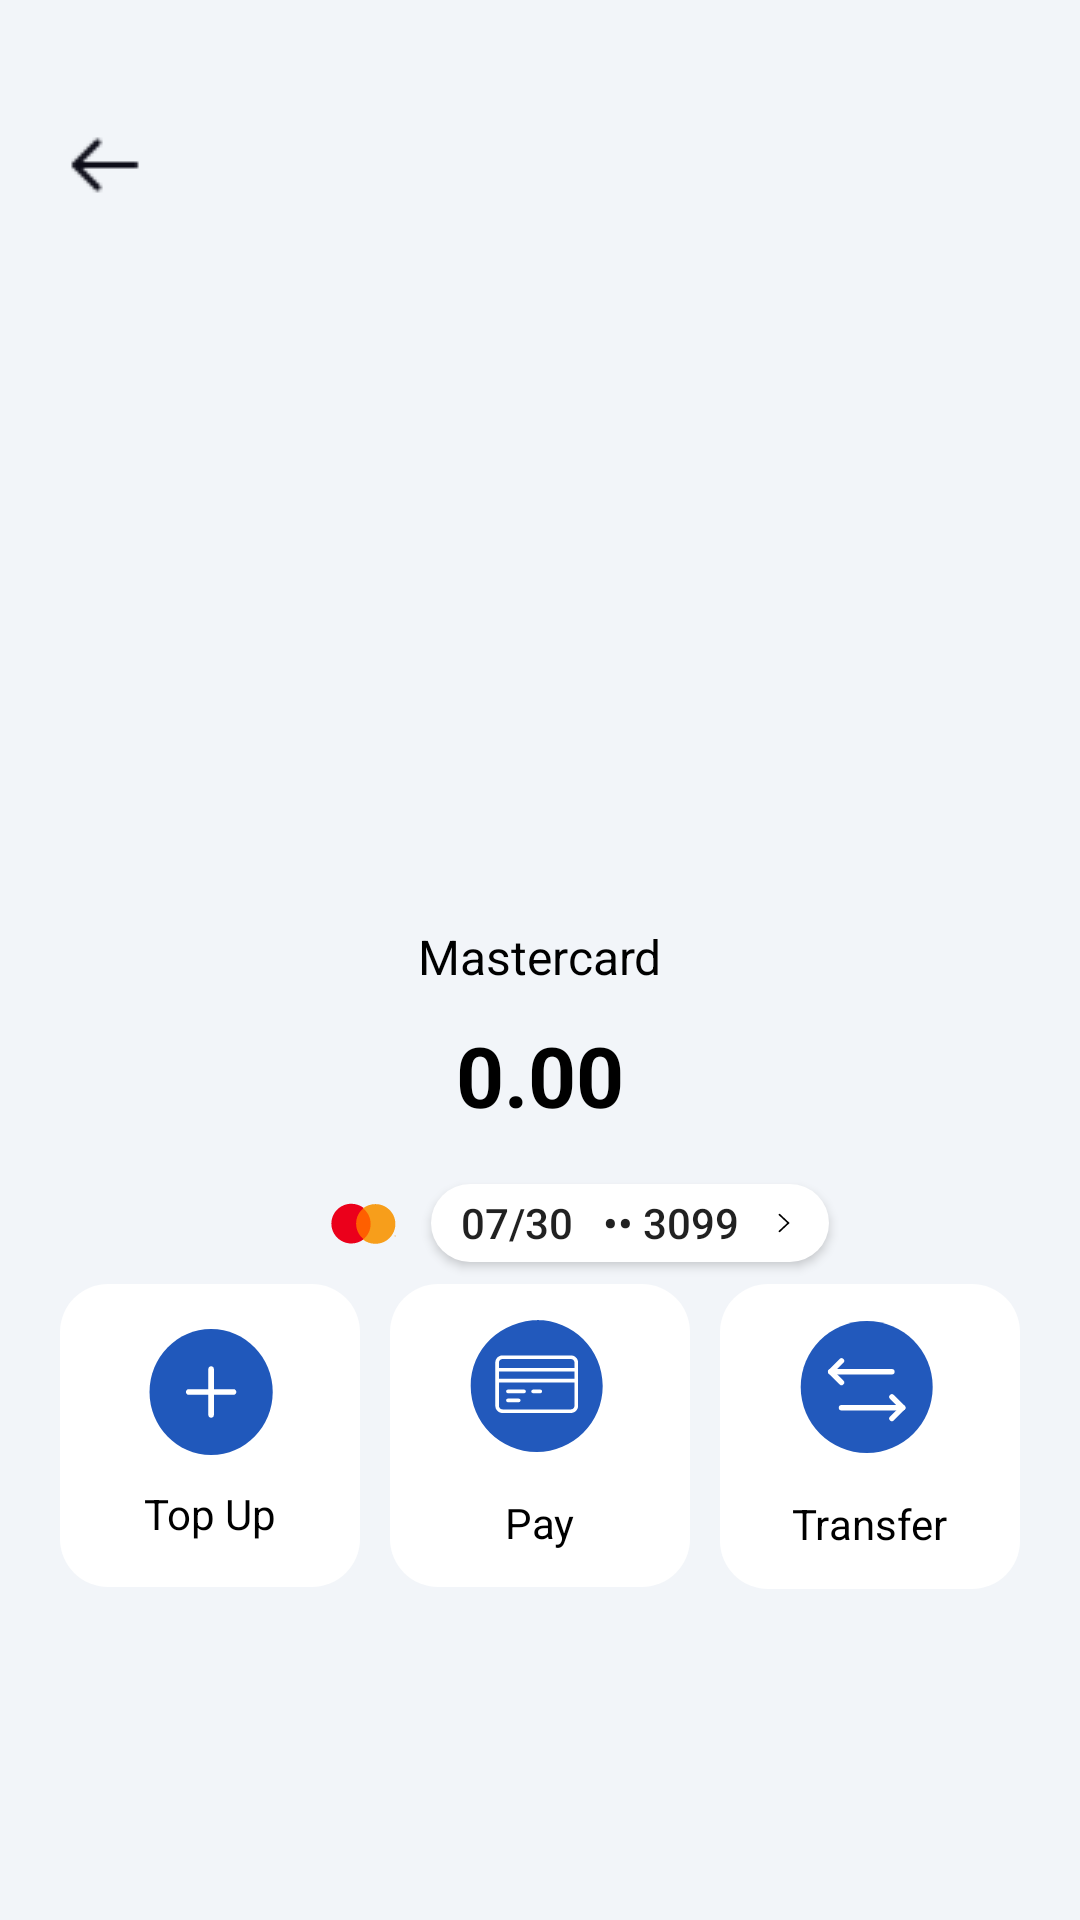

Icons on this 1080×1920 Android screen, each with its box as (x1, y1, x2, y2):
left: (71, 137, 139, 193)
